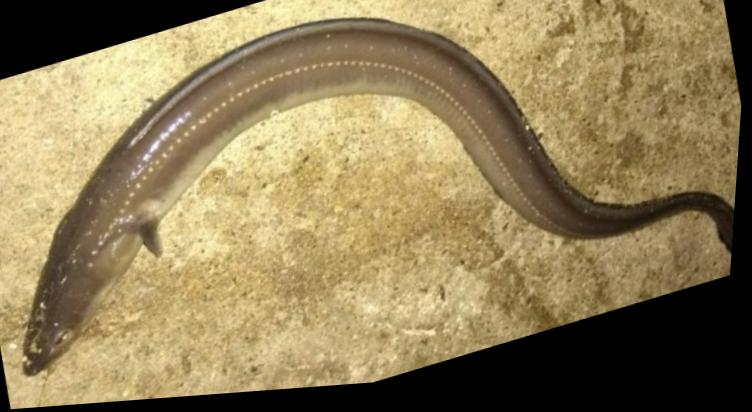fish: (29, 25, 738, 375)
